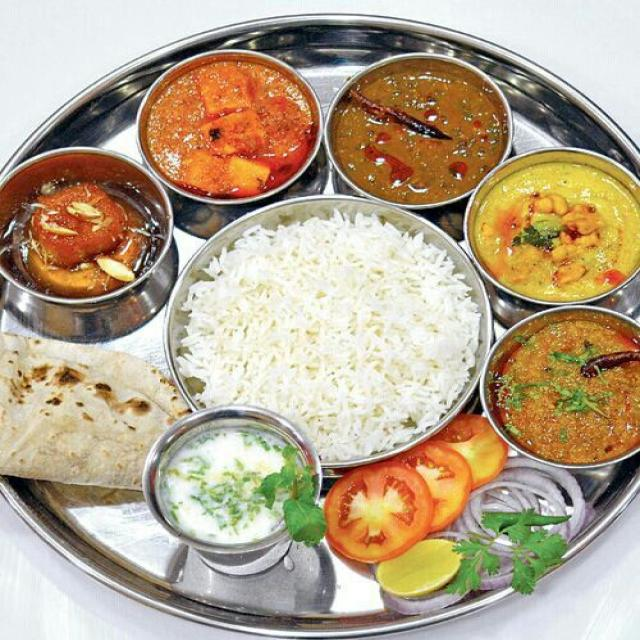veg meals: (0, 36, 640, 627)
